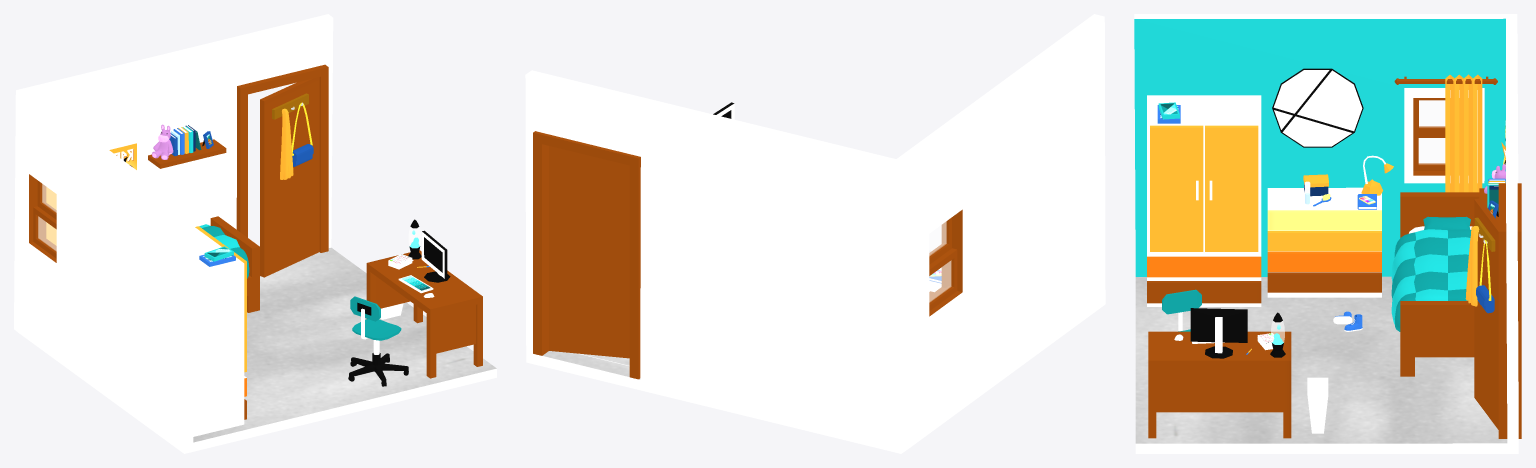
Rendered from clean_room_for_summer(1).glb.
3 views of the same model, side by side, from view 1: azimuth 30°, elevation 25°; view 2: azimuth 150°, elevation 25°; view 3: azimuth 270°, elevation 25° (orthographic). The views are drawn at different scales.
Visible parts, largest first — view 1: Wals, Door, Wardrobe, Desk, Window, Chair, Bed, Hanger, Monitor, Shelf, Books, Purse (+1 smaller); view 2: Wals, Door, Window; view 3: Wals, Wardrobe, Bed, BedsiteTable, Desk, Door, Mirror, Blinds, Window, Monitor, Hanger, TrashCan (+5 smaller).
Part boxes in pixels (<box>): Wals: <box>14,14,496,453</box>; Door: <box>236,64,328,277</box>; Wardrobe: <box>193,226,246,436</box>; Desk: <box>366,250,482,378</box>; Window: <box>25,163,65,272</box>; Chair: <box>348,296,408,386</box>; Bed: <box>199,216,259,312</box>; Hanger: <box>272,93,308,179</box>; Monitor: <box>421,230,450,282</box>; Shelf: <box>148,139,226,168</box>; Books: <box>169,125,201,156</box>; Purse: <box>291,102,313,166</box>; Wals: <box>525,14,1105,453</box>; Door: <box>533,131,640,379</box>; Window: <box>918,196,967,328</box>; Wals: <box>1134,14,1518,453</box>; Wardrobe: <box>1147,95,1261,306</box>; Bed: <box>1391,192,1479,376</box>; BedsiteTable: <box>1267,187,1381,297</box>; Desk: <box>1148,331,1291,438</box>; Door: <box>1474,183,1521,438</box>; Mirror: <box>1272,68,1363,147</box>; Blinds: <box>1394,74,1497,192</box>; Window: <box>1404,88,1484,183</box>; Monitor: <box>1190,308,1247,358</box>; Hanger: <box>1465,217,1495,306</box>; TrashCan: <box>1307,377,1328,433</box>.
Size of the model in its own units: 361 by 260 by 339.
1 material, 1 textured.
